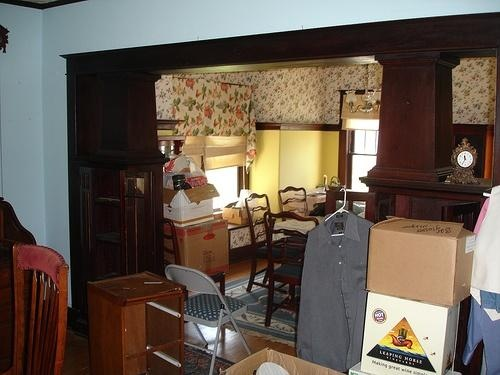chair: (165, 264, 253, 372), (5, 244, 67, 374), (263, 211, 324, 339), (241, 194, 295, 299), (277, 186, 312, 220)
